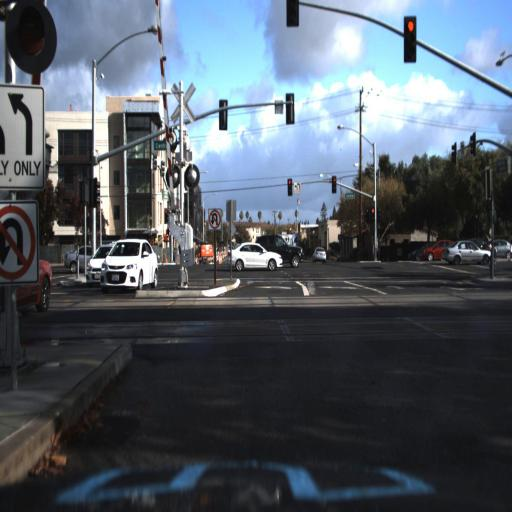car: (97, 239, 158, 291), (226, 238, 282, 277), (83, 240, 123, 287), (61, 241, 111, 274), (84, 243, 119, 286), (261, 232, 302, 268), (423, 236, 460, 264), (404, 240, 436, 260), (407, 240, 434, 262)
trafficLight: (10, 1, 55, 69), (286, 1, 300, 27)
trafficLight-Red: (402, 14, 418, 62), (330, 171, 339, 196), (286, 174, 293, 198), (370, 202, 376, 227), (332, 173, 336, 193)
